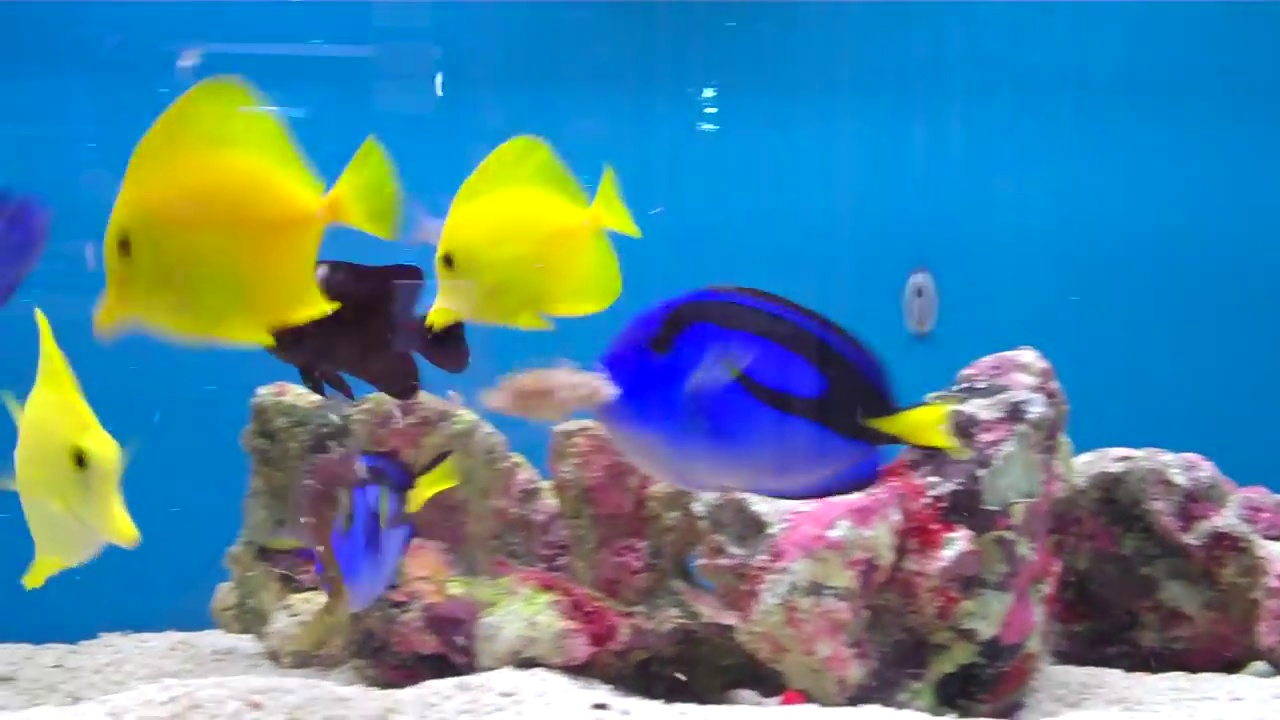blue tang surgeonfish: (581, 271, 964, 522)
saddle butterfly fish: (87, 73, 404, 347), (418, 106, 647, 356), (0, 297, 156, 614)
